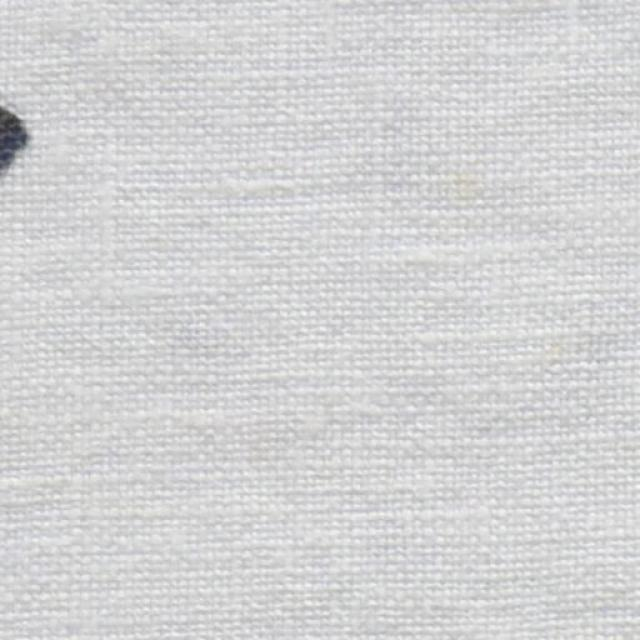Stain: (1, 106, 28, 169)
